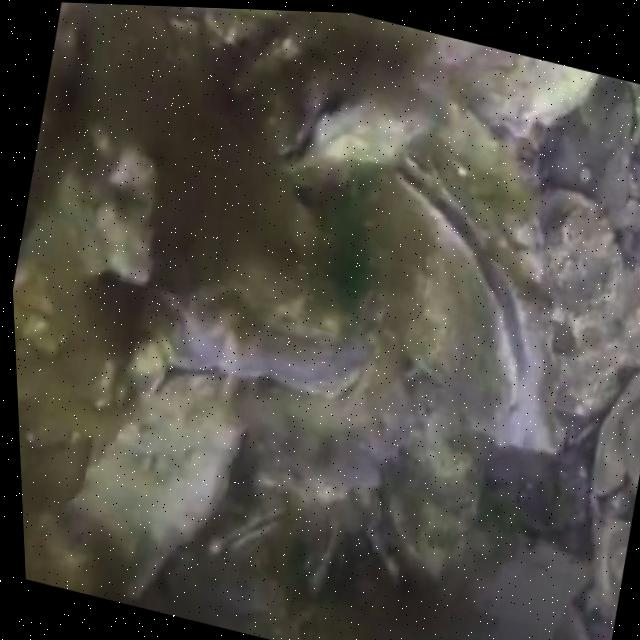Oyster-Indeterminate: (145, 190, 371, 392), (65, 372, 249, 598), (360, 516, 418, 589)
Oyster-Open: (335, 148, 534, 429), (231, 43, 423, 180), (209, 505, 286, 561), (308, 504, 339, 598)
